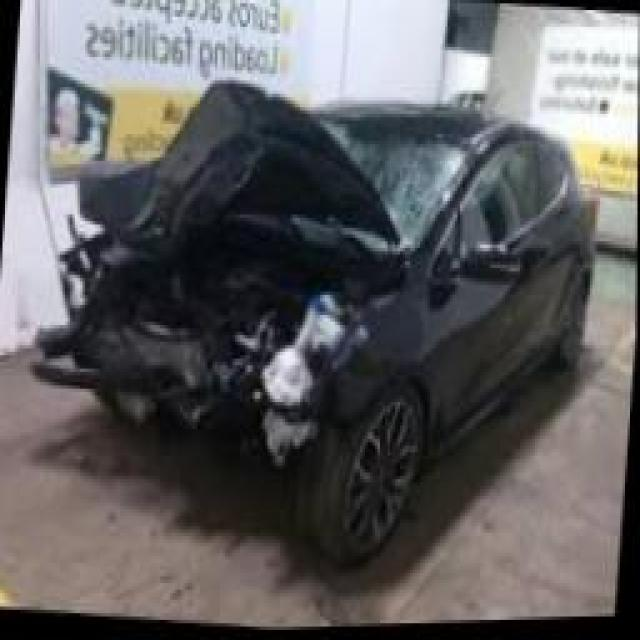Bonnet: (75, 73, 406, 349)
Bumper: (40, 310, 318, 457)
Light: (56, 206, 112, 311)
